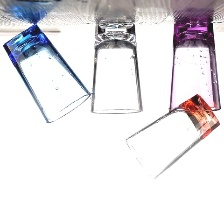glass: (0, 16, 92, 129), (117, 95, 224, 190), (83, 11, 148, 121), (165, 17, 223, 118)
